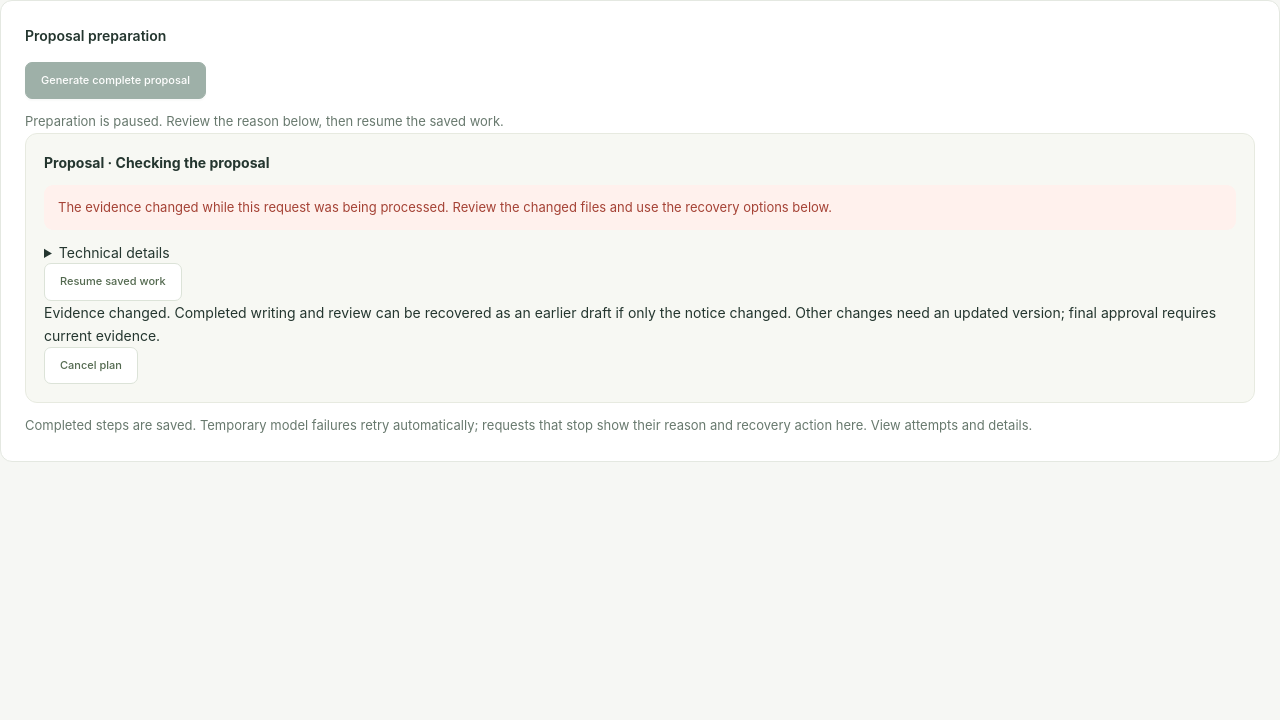
Test: allows a final-stage stale proposal to request checked recovery and explains rejection
Click the button "Resume saved work" at (113, 282), box top-left (44, 263), bottom-right (182, 301)
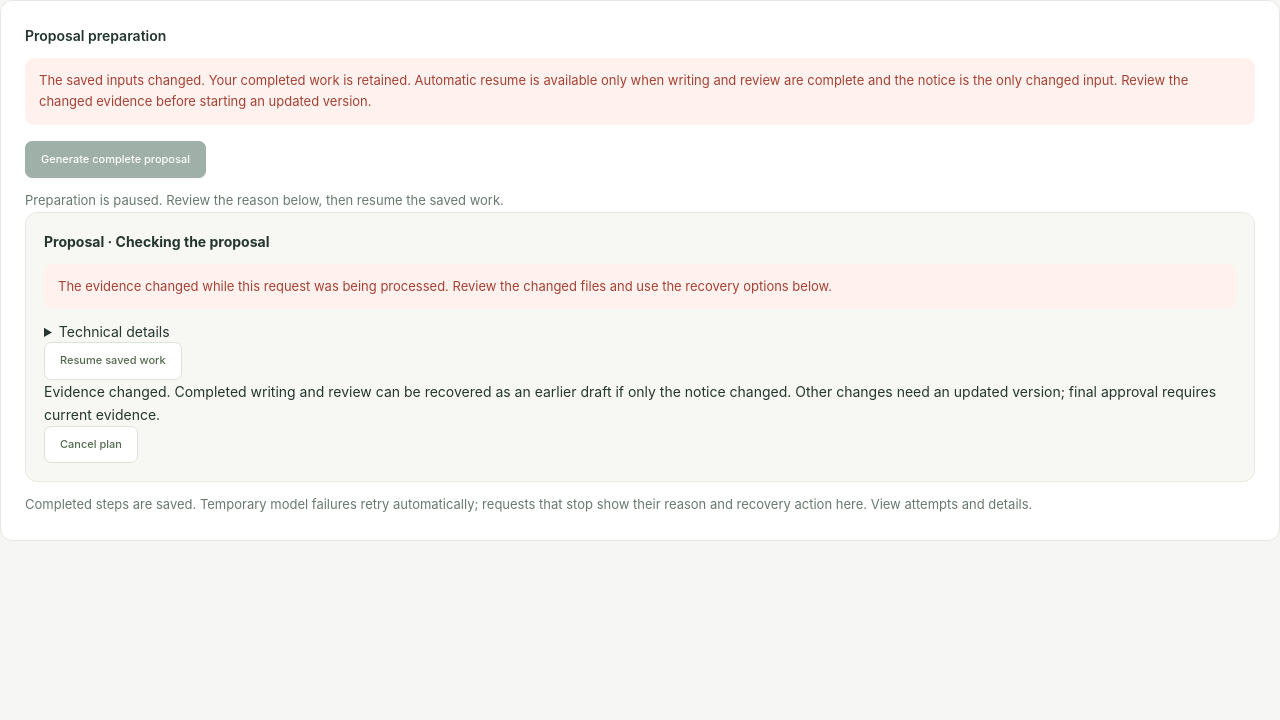
Check: the message shows "Your completed work is retained", box top-left (39, 72), bottom-right (1188, 109)
Check: the message shows "notice is the only changed input", box top-left (39, 72), bottom-right (1188, 109)
